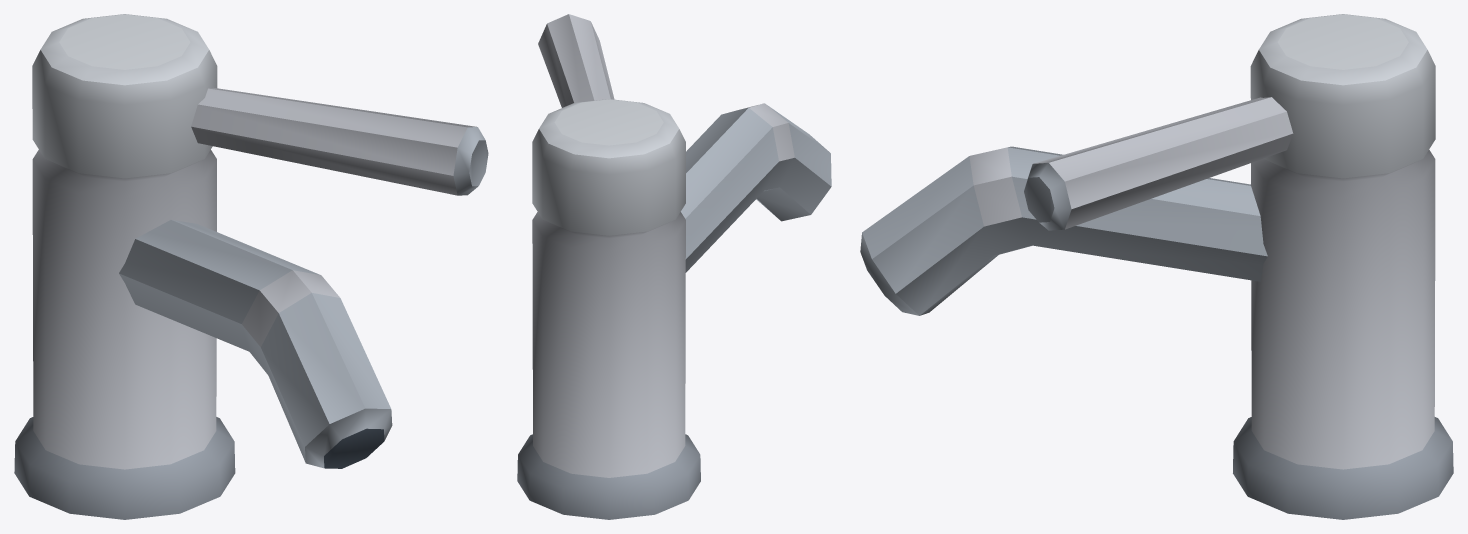
The model's file is torneira_monocomando_pacote.glb.
The picture shows the model from 3 angles, left to right: view 1: azimuth 30°, elevation 25°; view 2: azimuth 150°, elevation 25°; view 3: azimuth 270°, elevation 25°; orthographic projection. The views are drawn at different scales.
Parts seen in each view (by area): view 1: torneira_monocomando_pacote; view 2: torneira_monocomando_pacote; view 3: torneira_monocomando_pacote.
Part boxes in pixels (x1=…): torneira_monocomando_pacote: x1=14, y1=14, x2=488, y2=519; torneira_monocomando_pacote: x1=517, y1=14, x2=831, y2=519; torneira_monocomando_pacote: x1=860, y1=14, x2=1453, y2=519.
Bounding box in the file's own units: 0.1643 × 0.2135 × 0.2663.
Materials: 1 (1 with a texture image).
